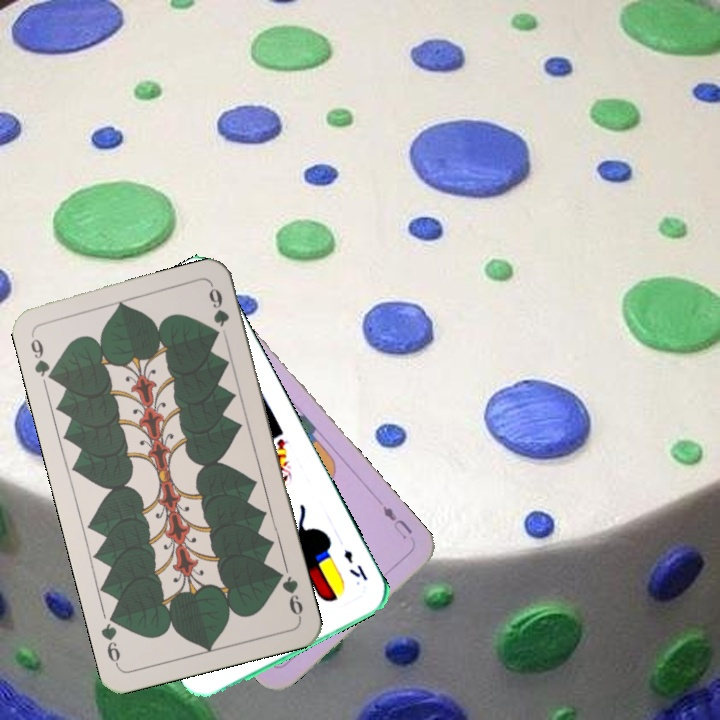EK: (339, 545, 371, 583)
EU: (378, 501, 415, 542)
G9: (272, 566, 306, 621), (26, 329, 59, 385)
